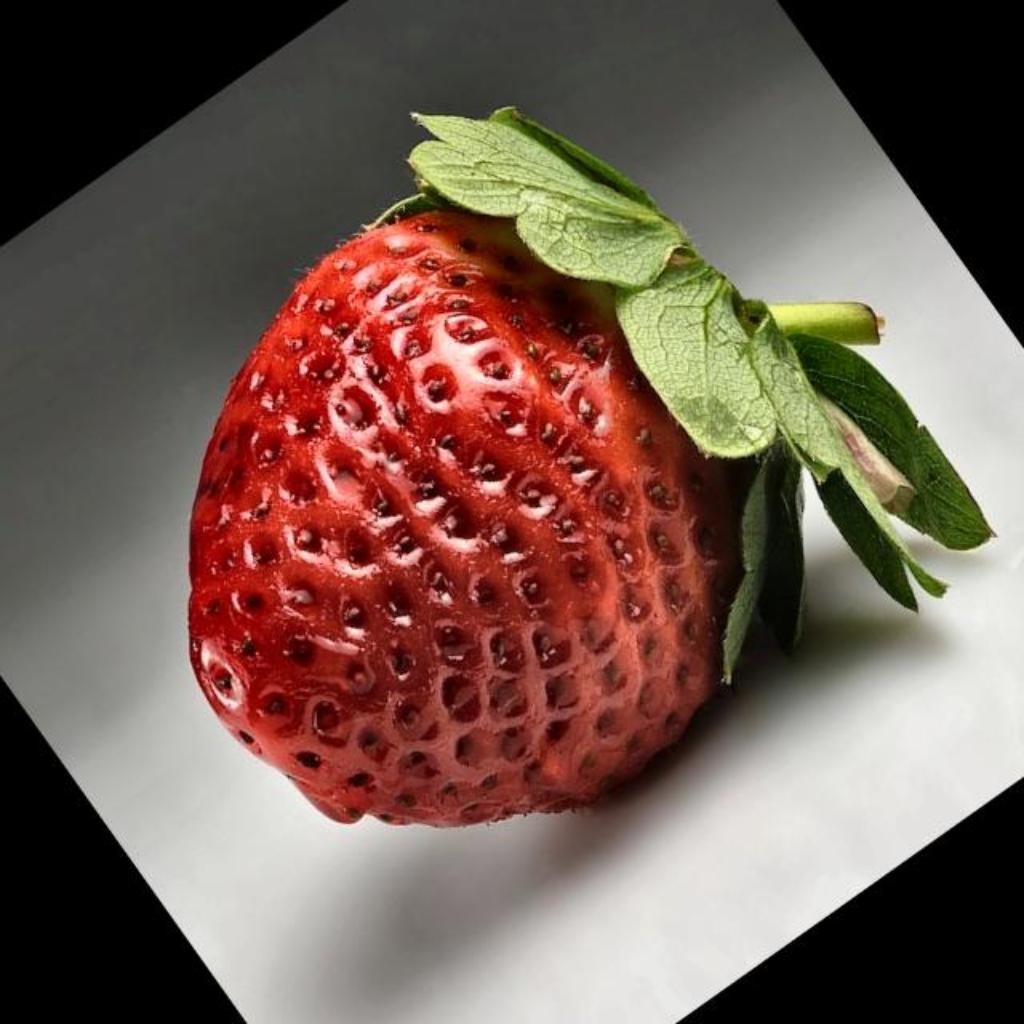strawberry: (190, 108, 992, 825)
